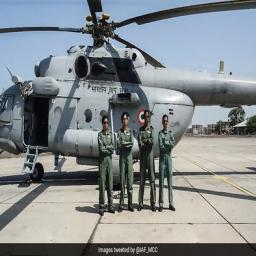helicopter: (2, 8, 256, 187)
